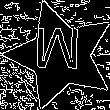M_S: (36, 30, 85, 81)
